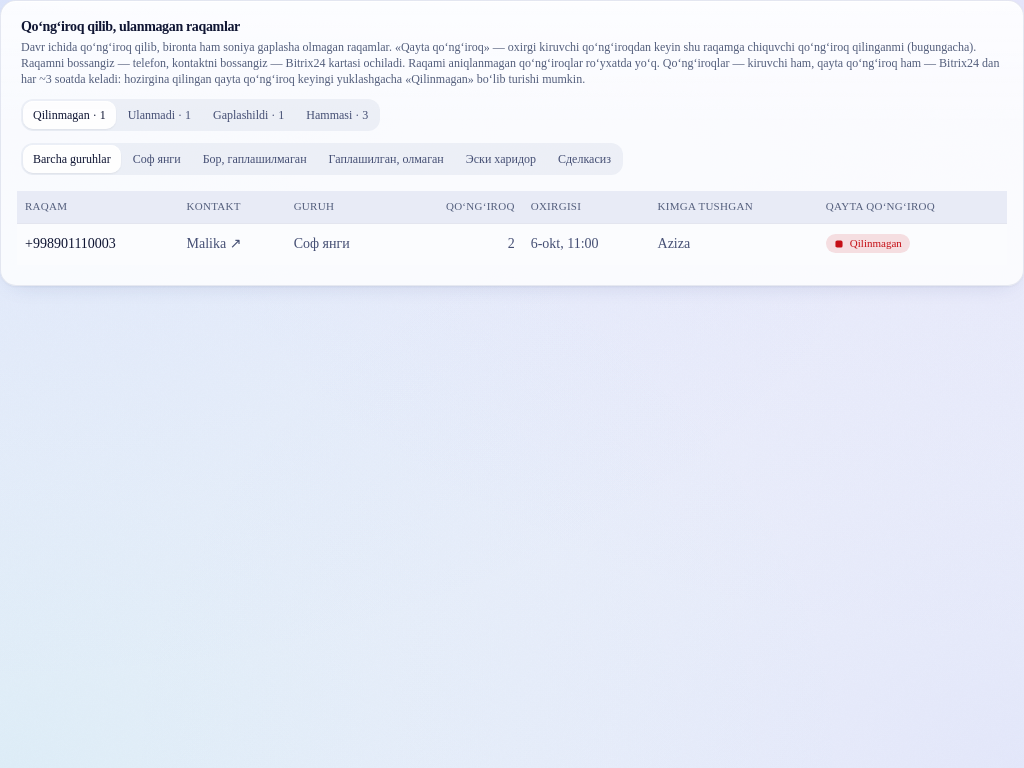
Test: UnansweredCallsCard › reads the other states and narrows by group
The image size is (1024, 768).
Expected: the link "+998901110003" is shown, 25,236 -> 116,251
What coordinates should you click on to do the following:
click the button "Hammasi · 3"
I would click on:
 (337, 115)
Its box is 296,101 -> 378,129.
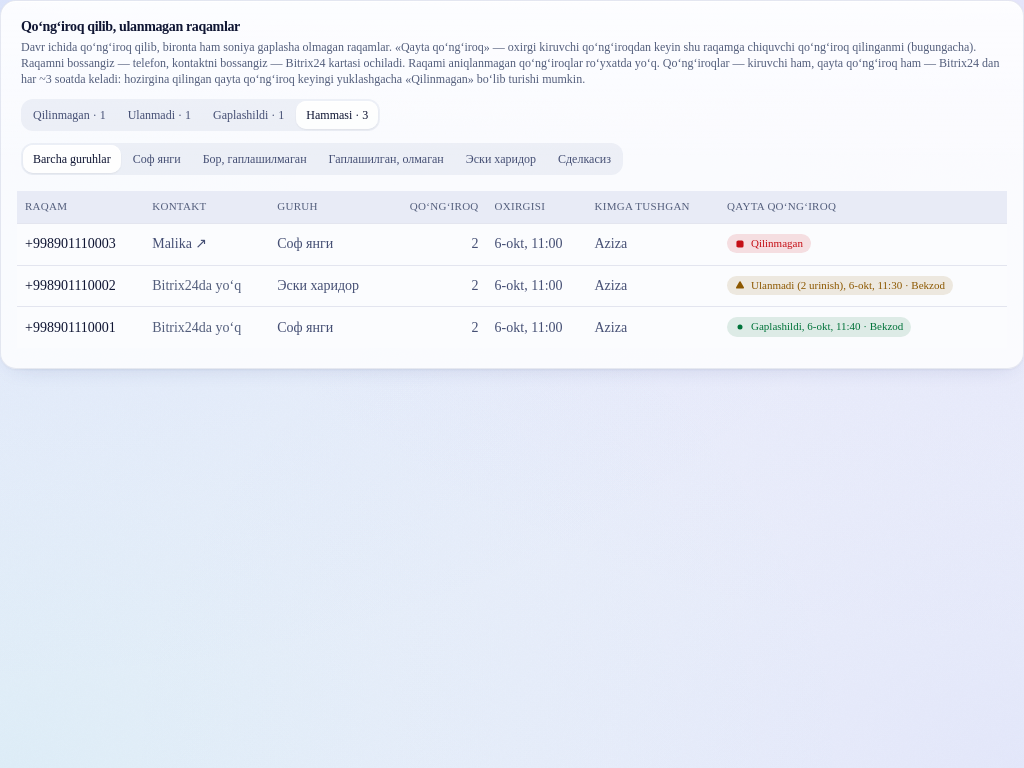
Now the text "Ulanmadi (2 urinish), 6-okt, 11:30 · Bekzod" is shown, box 727,276 -> 953,295
Now the text "Gaplashildi, 6-okt, 11:40 · Bekzod" is shown, box 727,317 -> 911,337
What coordinates should you click on to do the following:
click the button "Эски харидор"
I would click on:
 (501, 159)
Its box is 456,145 -> 546,173.
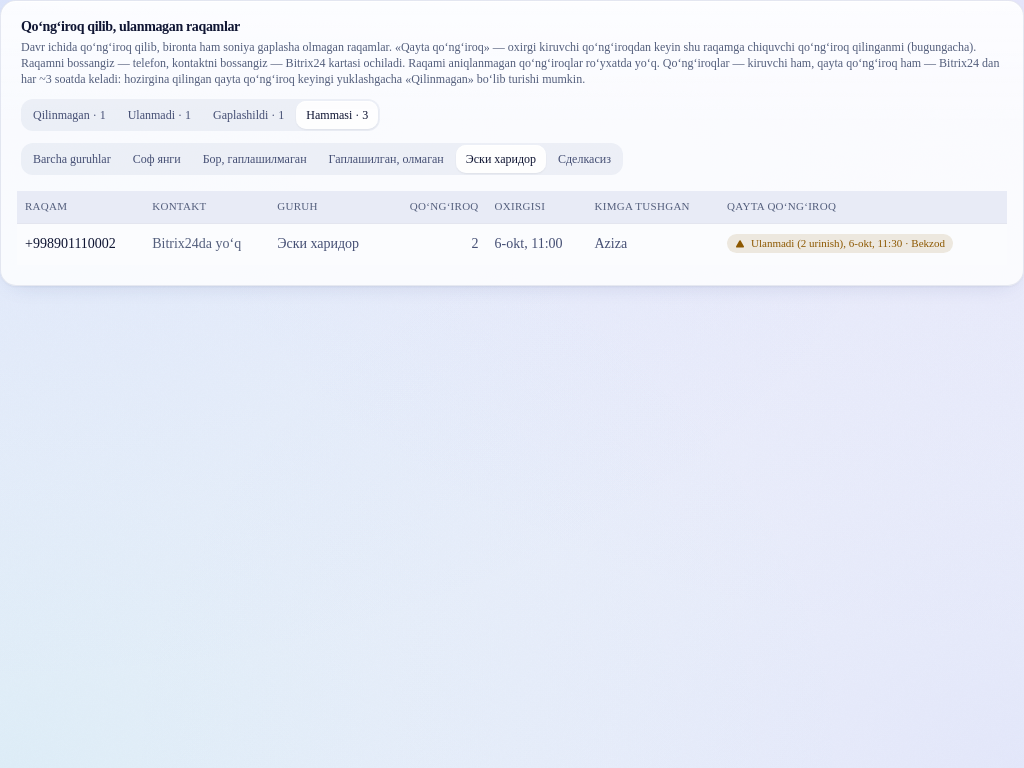
Now the link "+998901110002" is shown, box 25,236 -> 116,251
Now the link "+998901110003" is gone
